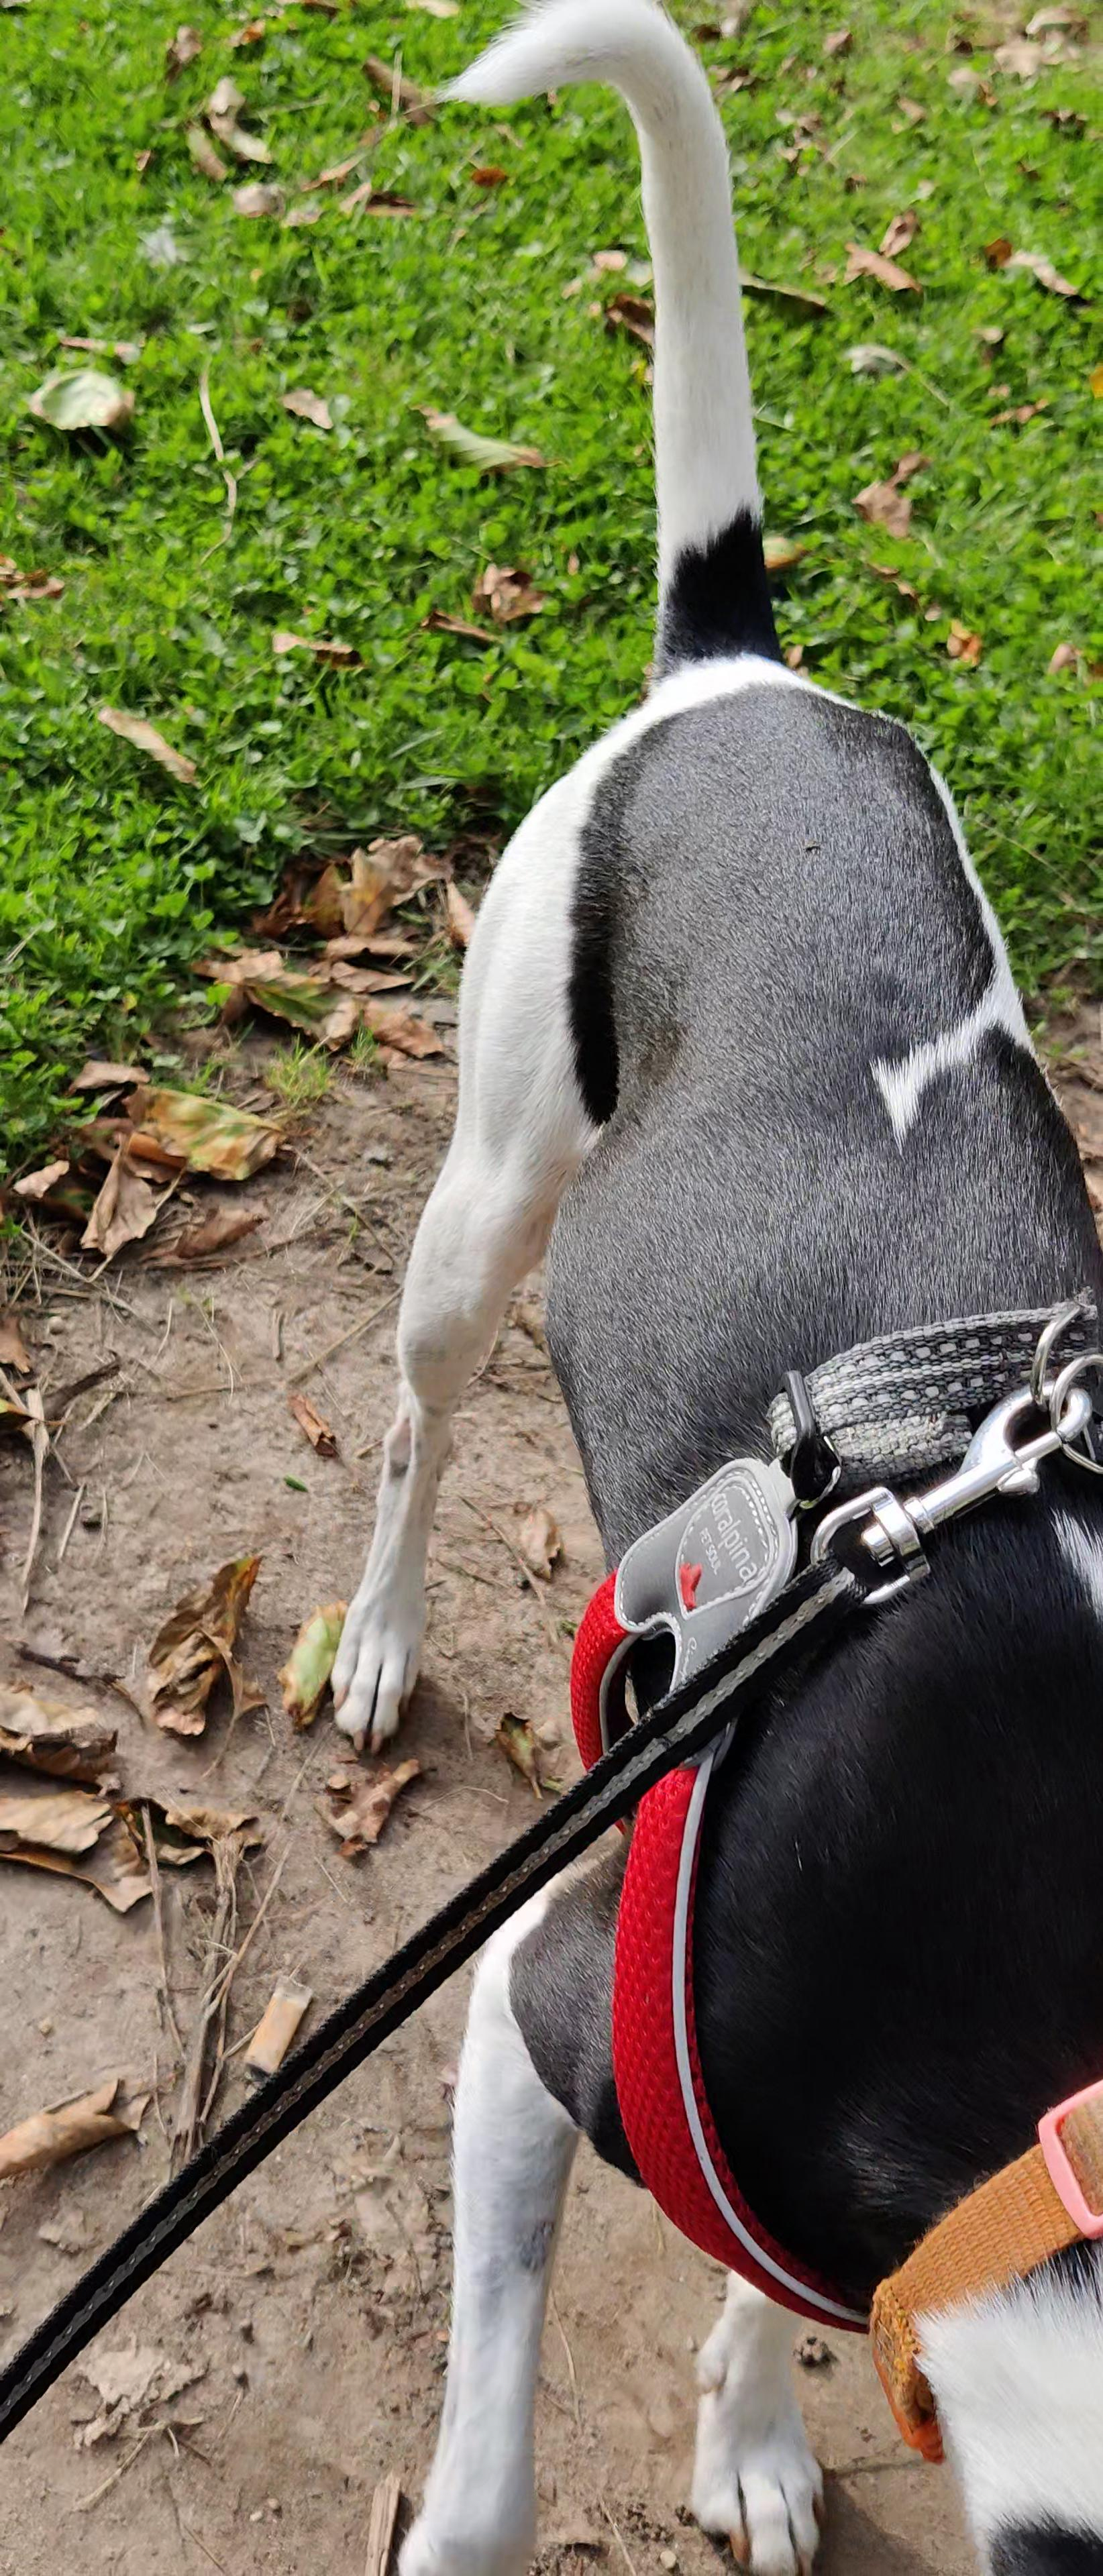Dog: (299, 0, 1103, 2576)
